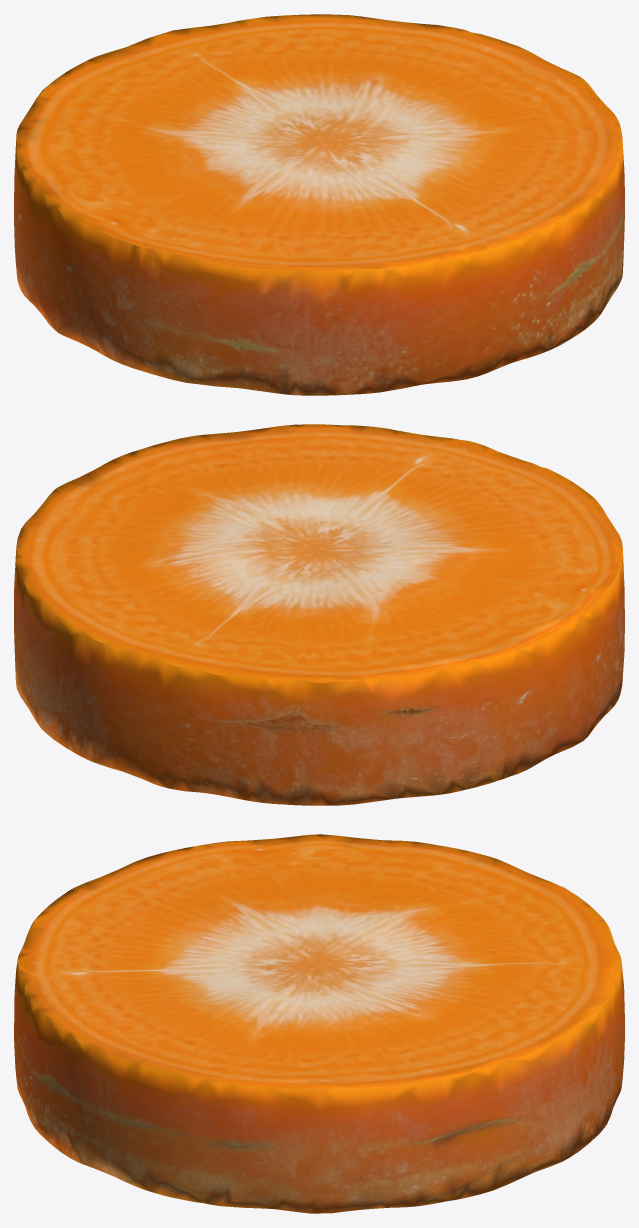
File: carrot.glb
The picture shows the model from 3 angles, top to bottom: view 1: azimuth 30°, elevation 25°; view 2: azimuth 150°, elevation 25°; view 3: azimuth 270°, elevation 25°; orthographic projection.
Visible parts, largest first — view 1: Mesh10; view 2: Mesh10; view 3: Mesh10.
Part boxes in pixels (bbox=[...]): Mesh10: bbox=[14, 14, 624, 395]; Mesh10: bbox=[14, 424, 624, 805]; Mesh10: bbox=[14, 834, 624, 1213].
Size of the model in its own units: 1.91 by 0.4436 by 1.91.
Materials: 1 (1 with a texture image).
